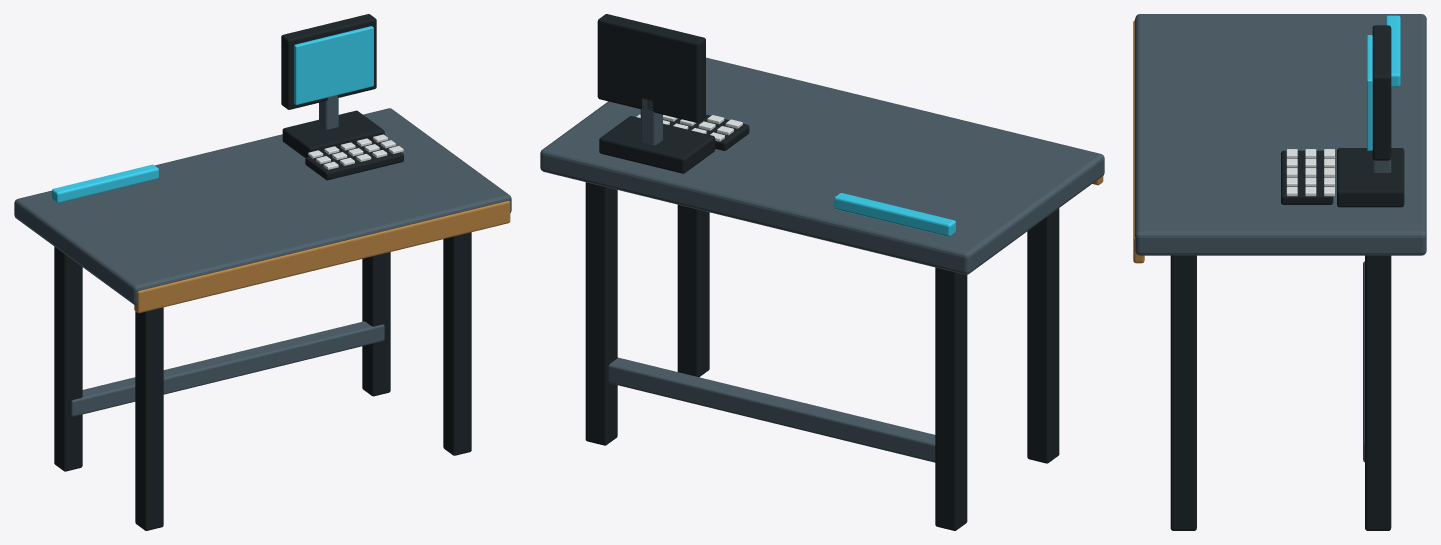
Rendered from SM_ConsolaTecnico.fbx.
3 views of the same model, side by side, from view 1: azimuth 30°, elevation 25°; view 2: azimuth 150°, elevation 25°; view 3: azimuth 270°, elevation 25° (orthographic). The views are drawn at different scales.
Parts seen in each view (by area): view 1: SM_ConsolaTecnico; view 2: SM_ConsolaTecnico; view 3: SM_ConsolaTecnico.
Part boxes in pixels (<box>): SM_ConsolaTecnico: <box>14,14,511,530</box>; SM_ConsolaTecnico: <box>540,14,1104,530</box>; SM_ConsolaTecnico: <box>1133,14,1426,530</box>.
Size of what is drawn, in the model's own units: 140 by 78.5 by 132.
